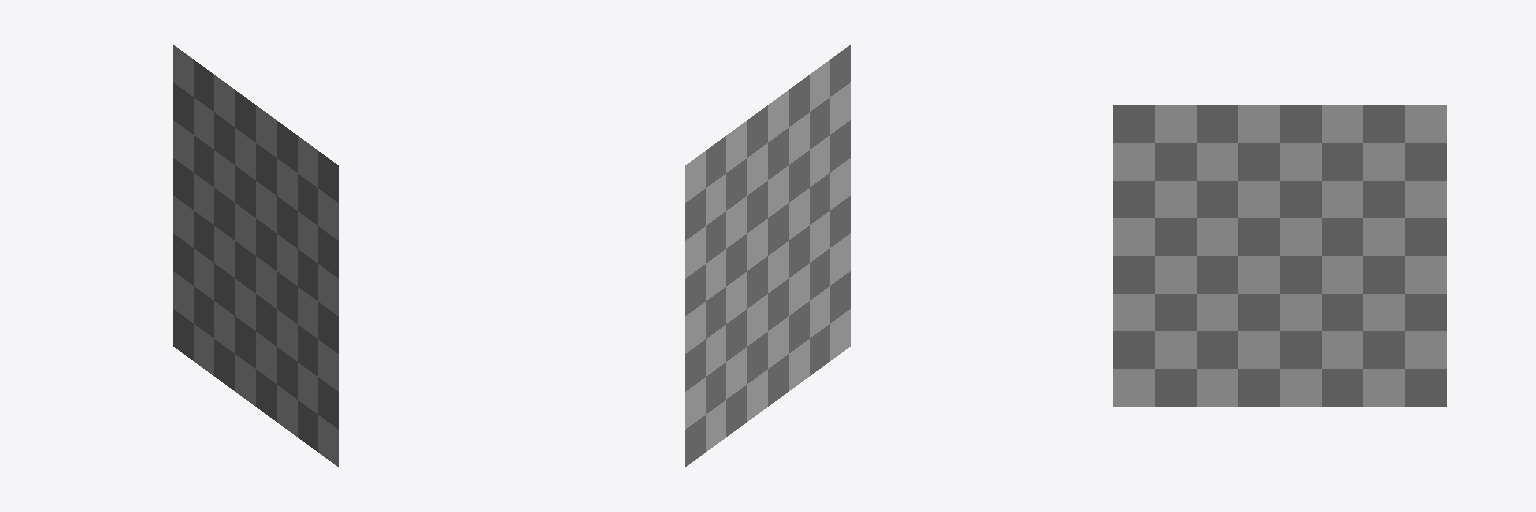
The picture shows the model from 3 angles: view 1: azimuth 30°, elevation 25°; view 2: azimuth 150°, elevation 25°; view 3: azimuth 270°, elevation 25°; orthographic projection.
Visible parts, largest first — view 1: Plane; view 2: Plane; view 3: Plane.
Boxes of the visible parts, x1=… form: Plane: x1=173, y1=45, x2=338, y2=466; Plane: x1=685, y1=45, x2=850, y2=466; Plane: x1=1113, y1=105, x2=1446, y2=406.
Bounding box in the file's own units: 0 × 1 × 1.
1 materials, 1 textured.